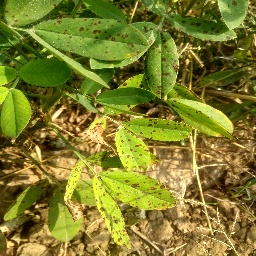GroundNut_Leaf: (91, 169, 178, 247), (123, 98, 235, 140), (36, 18, 154, 57), (48, 186, 86, 243), (172, 15, 240, 44), (1, 88, 34, 146), (17, 59, 75, 87)
